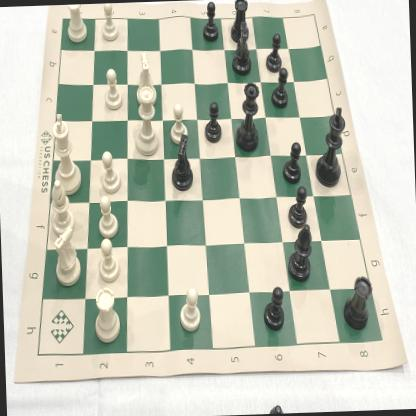black-bishop: (283, 224, 316, 284)
black-king: (312, 102, 348, 190)
black-knight: (169, 132, 196, 195), (229, 20, 254, 78)
black-pawn: (260, 283, 286, 335), (281, 140, 306, 186), (286, 184, 310, 230), (269, 65, 292, 110), (203, 99, 225, 145), (263, 29, 284, 75), (199, 0, 220, 45)
black-queen: (234, 79, 263, 156)
black-rook: (338, 273, 376, 332), (229, 0, 251, 45)
white-bishop: (47, 178, 76, 236)
white-king: (48, 112, 83, 196)
white-knight: (48, 226, 82, 288), (134, 49, 158, 105)
white-pawn: (178, 284, 203, 336), (96, 149, 124, 195), (96, 237, 122, 285), (94, 194, 120, 239), (167, 100, 190, 146), (102, 66, 125, 112), (99, 3, 121, 44)
white-queen: (132, 84, 162, 158)
white-rook: (91, 286, 122, 342), (62, 4, 90, 45)
